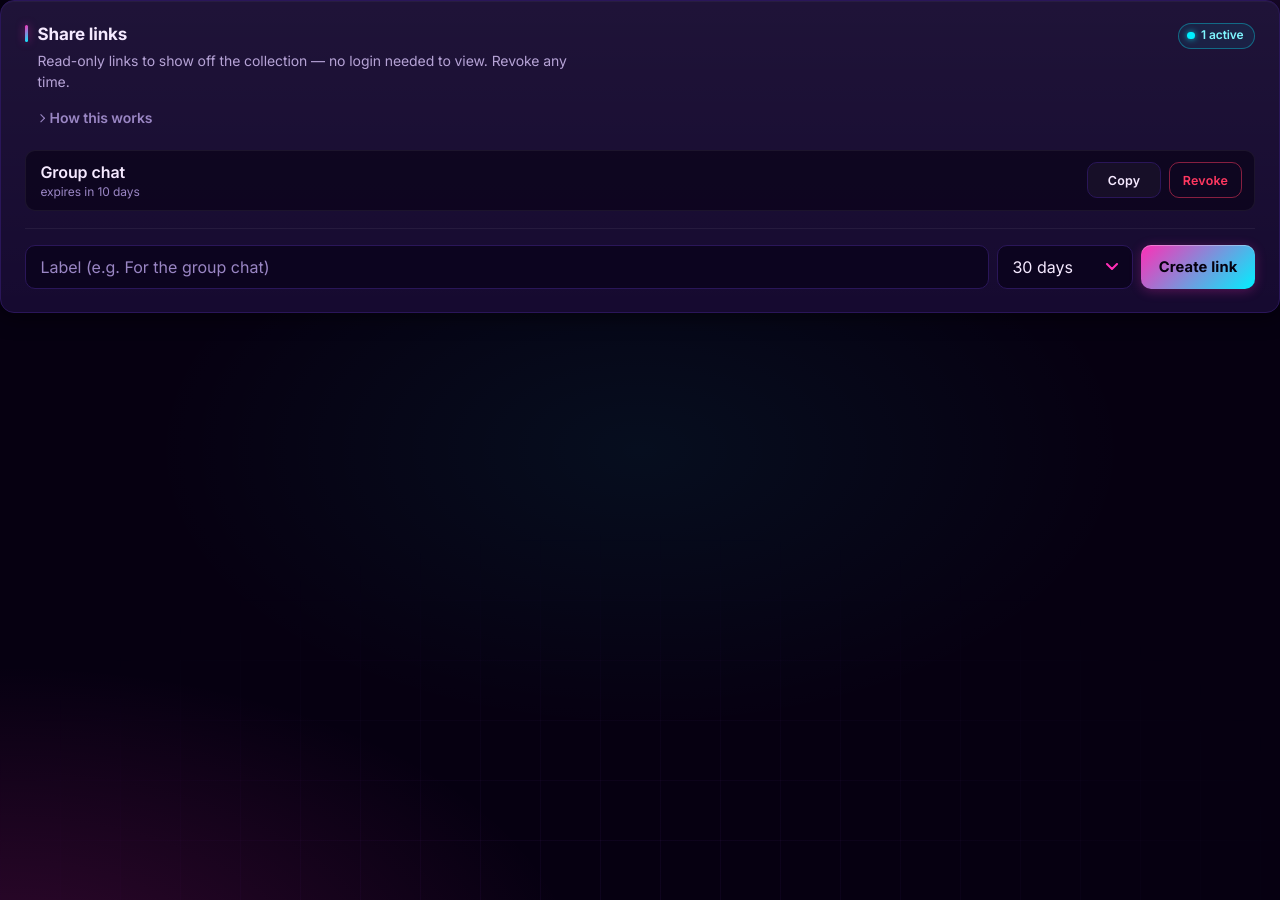
Test: ShareLinksCard › copies the full URL and says so on the button
Click the button with aria-label "Copy the link “Group chat”" at (1124, 180), box [1087,162,1161,198]
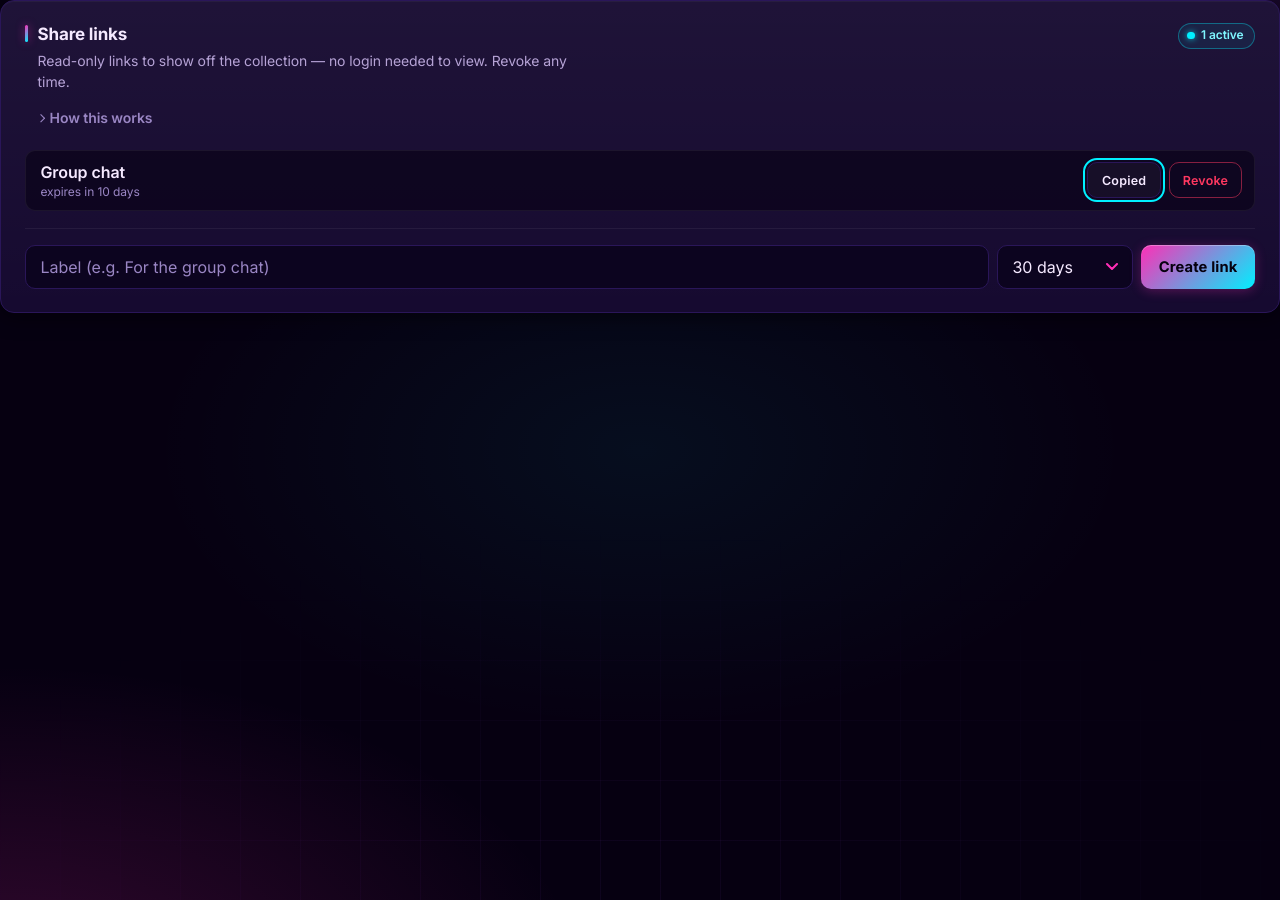
Expected: the button with aria-label "Copied the link “Group chat”" is shown, [1087,162,1161,198]
